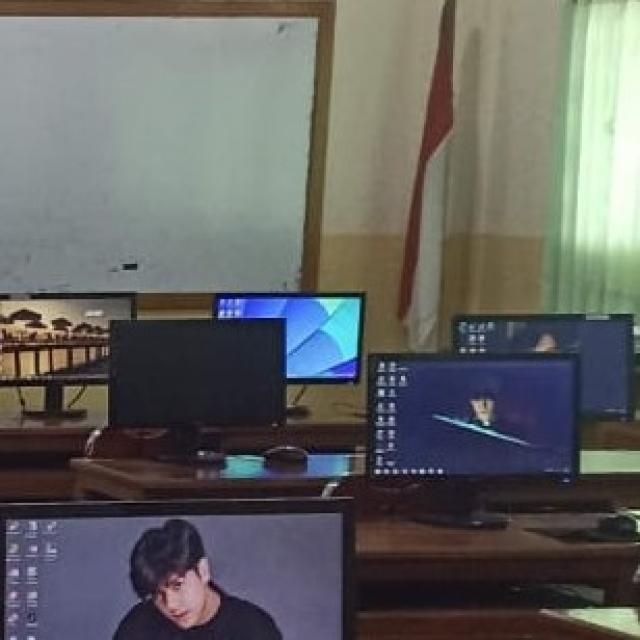offscreen: (109, 321, 285, 427)
onscreen: (0, 499, 354, 640), (369, 355, 579, 478), (454, 315, 632, 419), (216, 294, 363, 384), (0, 297, 130, 387)
